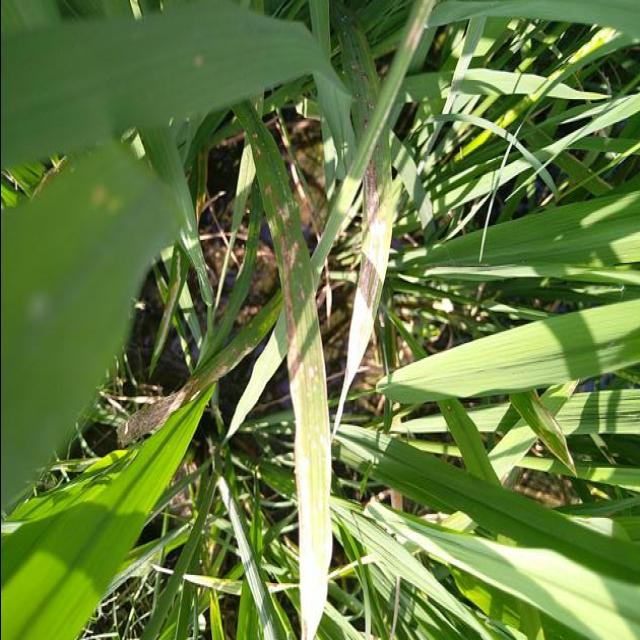Leaf Streak: (235, 108, 331, 640), (115, 289, 282, 449), (329, 140, 391, 442), (329, 0, 373, 146), (508, 389, 576, 477)
